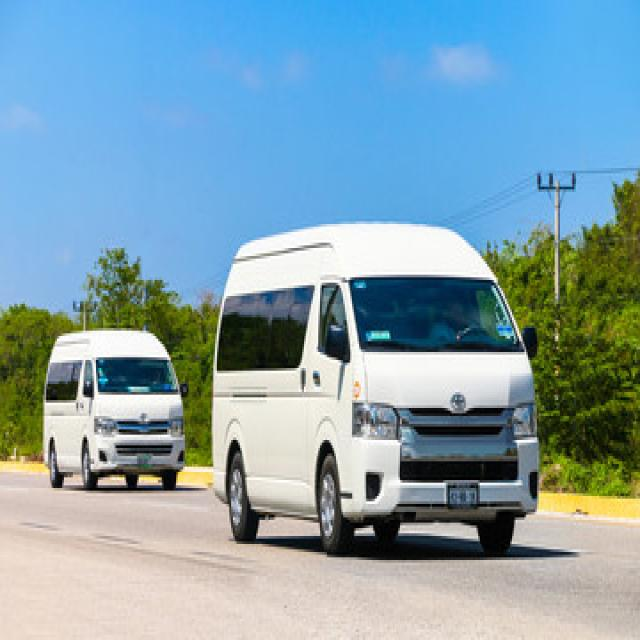van: (212, 224, 537, 555), (5, 307, 185, 488)
